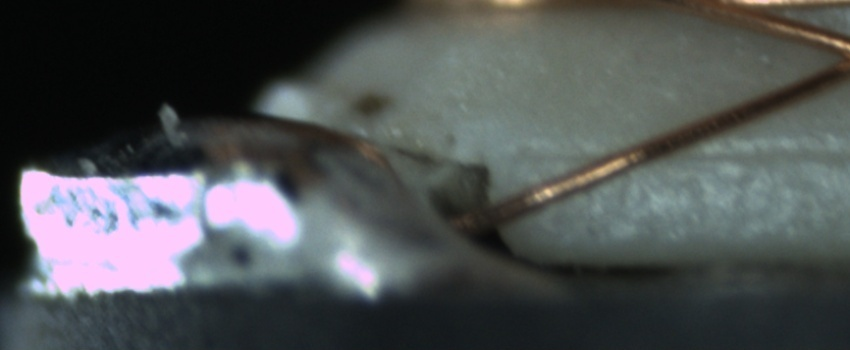DL: (525, 125, 850, 185)
